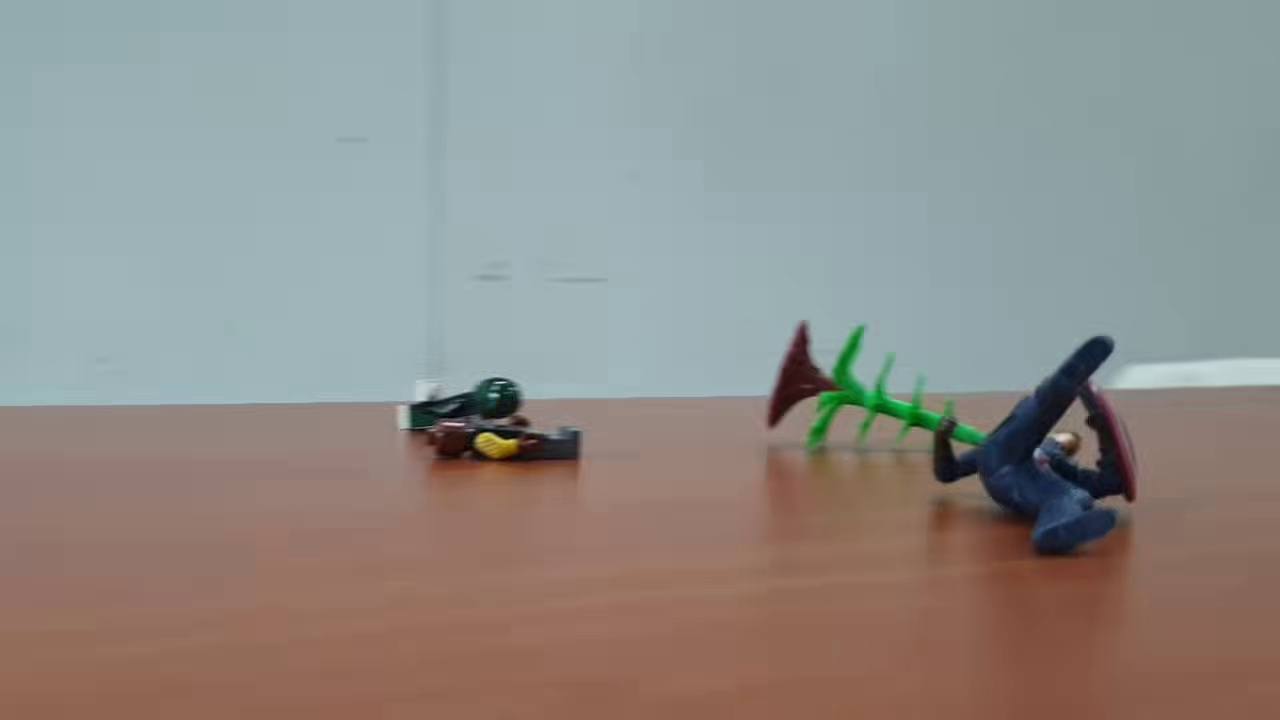people: (931, 334, 1138, 562), (426, 411, 589, 467), (394, 374, 526, 439)
tree: (760, 317, 1023, 465)
